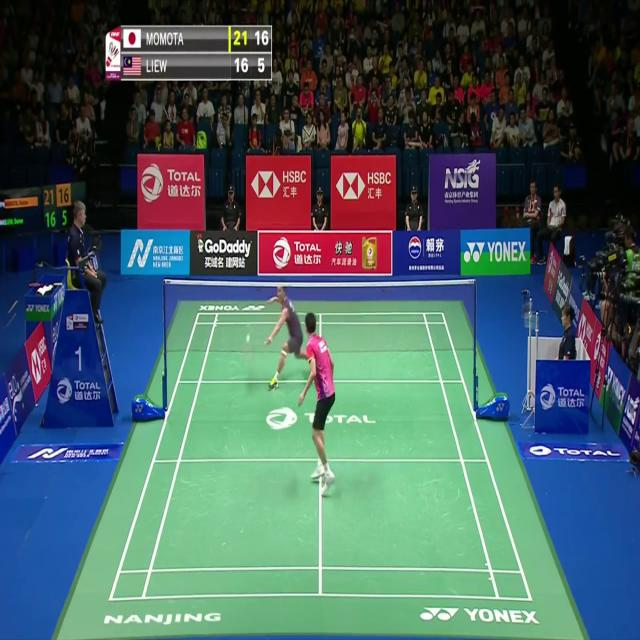Shuttlecock: (245, 334, 251, 345)
